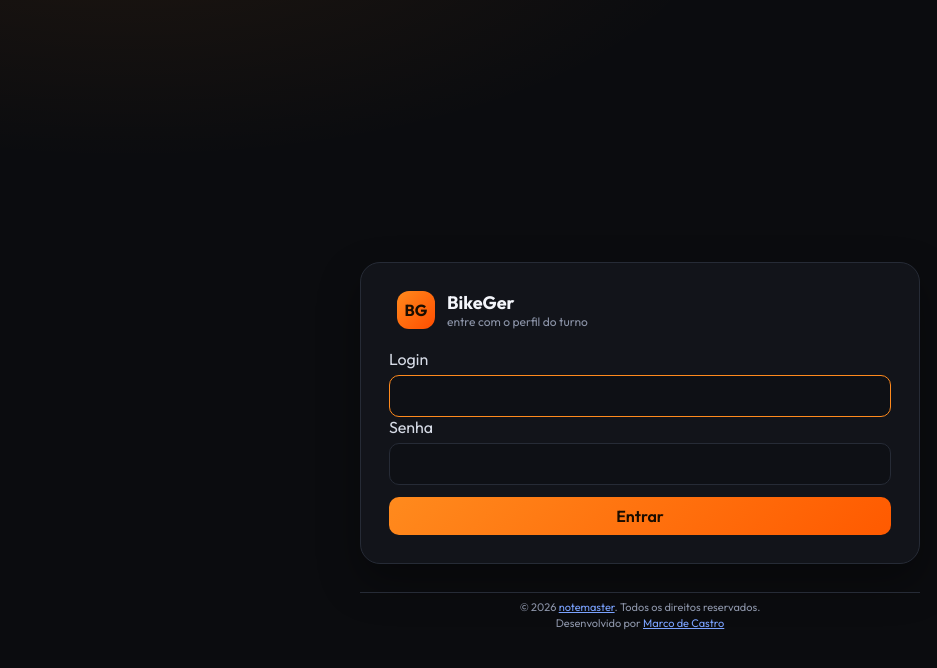
Scenario: Login › mostra o 429 quando o login está bloqueado
Type "dono" into the field labelled "Login" at (640, 396), box [389,375,891,417]
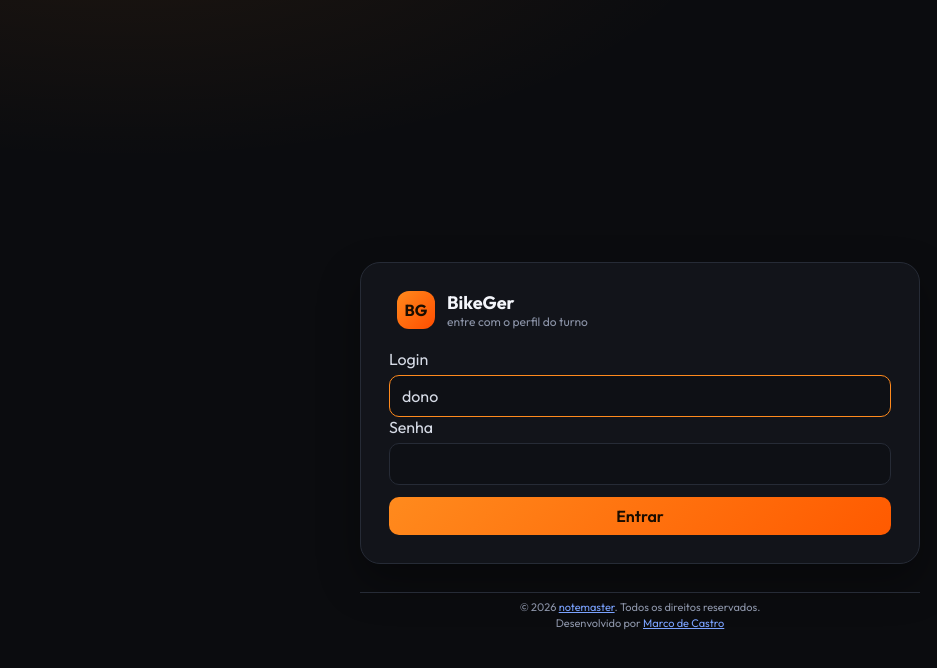
Type "errada" into the password field labelled "Senha" at (640, 464), box [389,443,891,485]
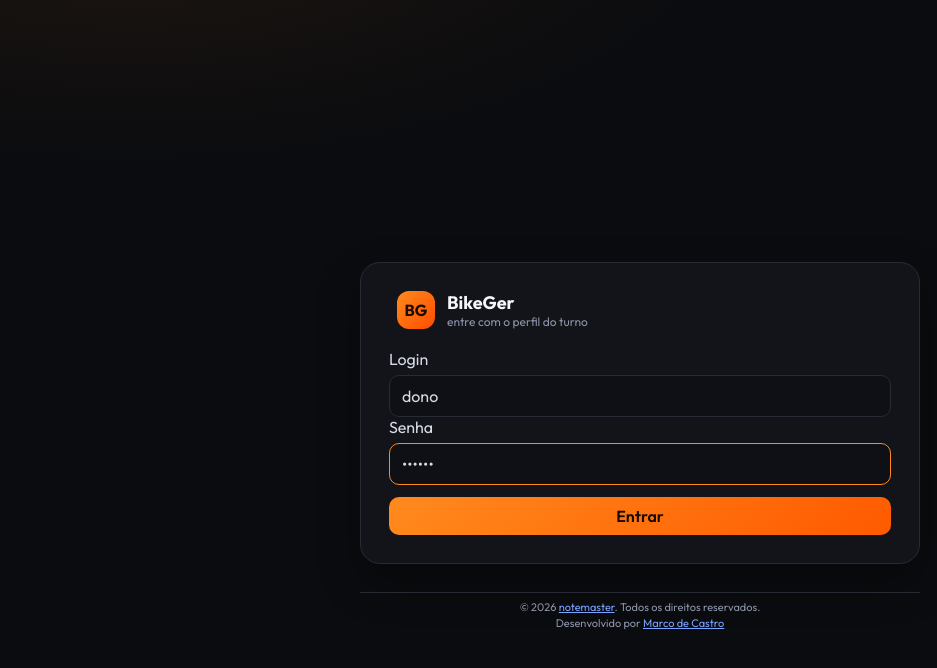
Click the button "Entrar" at (640, 516), box [389,497,891,535]
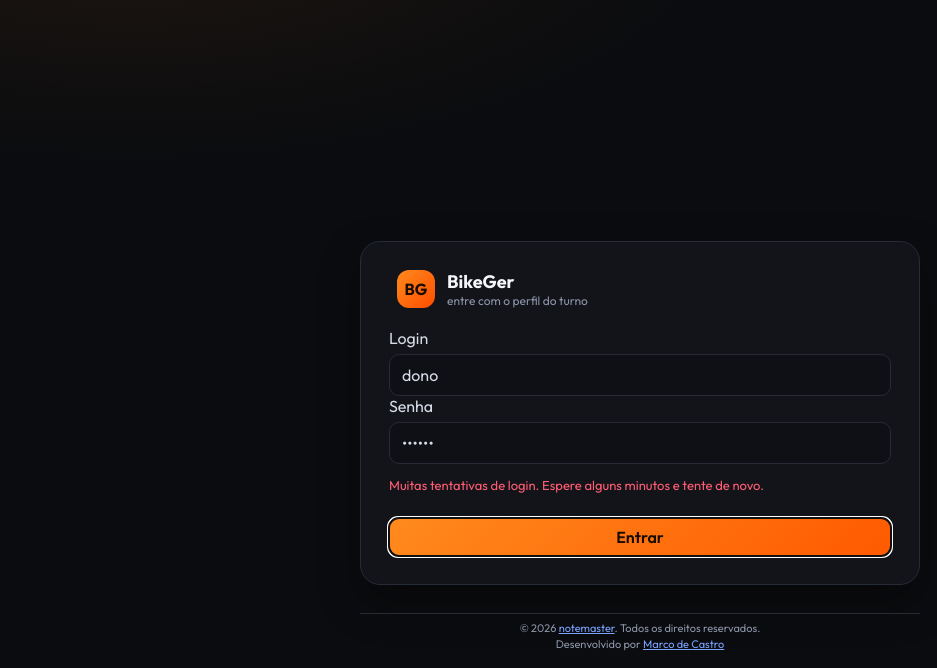
Expected: the text "Muitas tentativas de login" is shown, [389,477,764,493]
